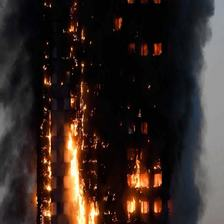fire: (2, 116, 107, 222), (119, 144, 170, 220), (38, 74, 99, 116), (64, 17, 91, 73), (129, 42, 167, 58), (113, 17, 135, 36), (65, 1, 81, 16)
